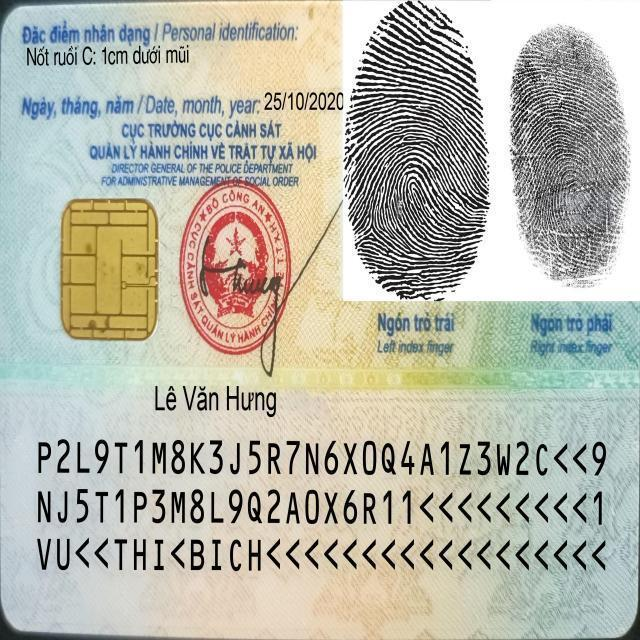features: (19, 41, 210, 76)
finger_print: (343, 2, 497, 360), (501, 0, 640, 357)
issue_date: (261, 86, 346, 116)
